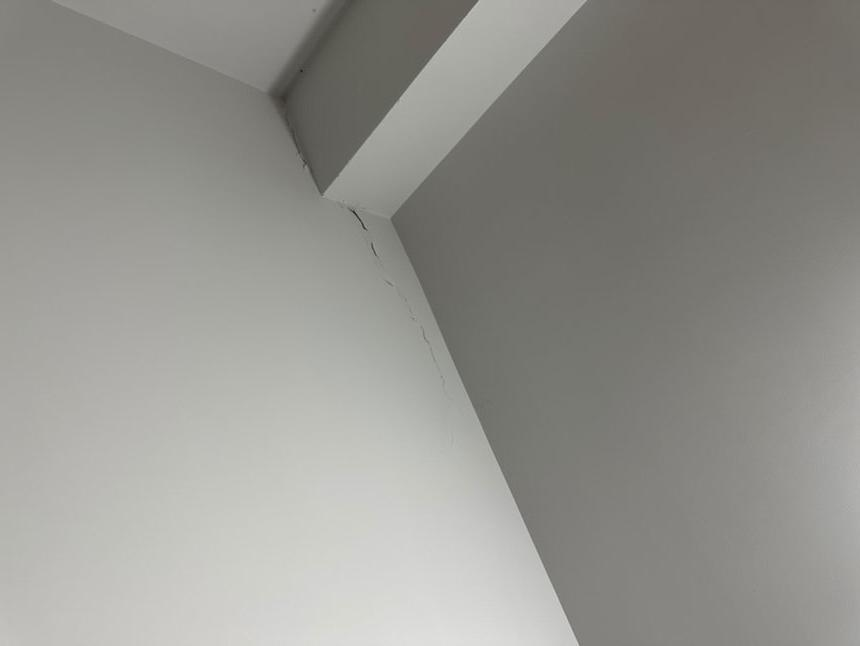Low: (335, 201, 454, 403)
